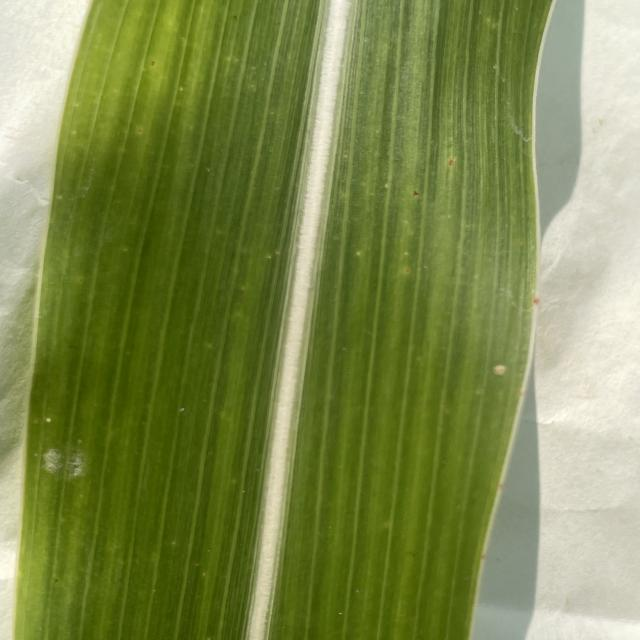millet_healthy: (17, 0, 542, 640)
